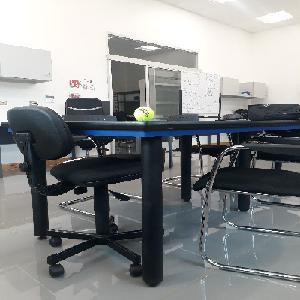Ball: (133, 106, 154, 122)
